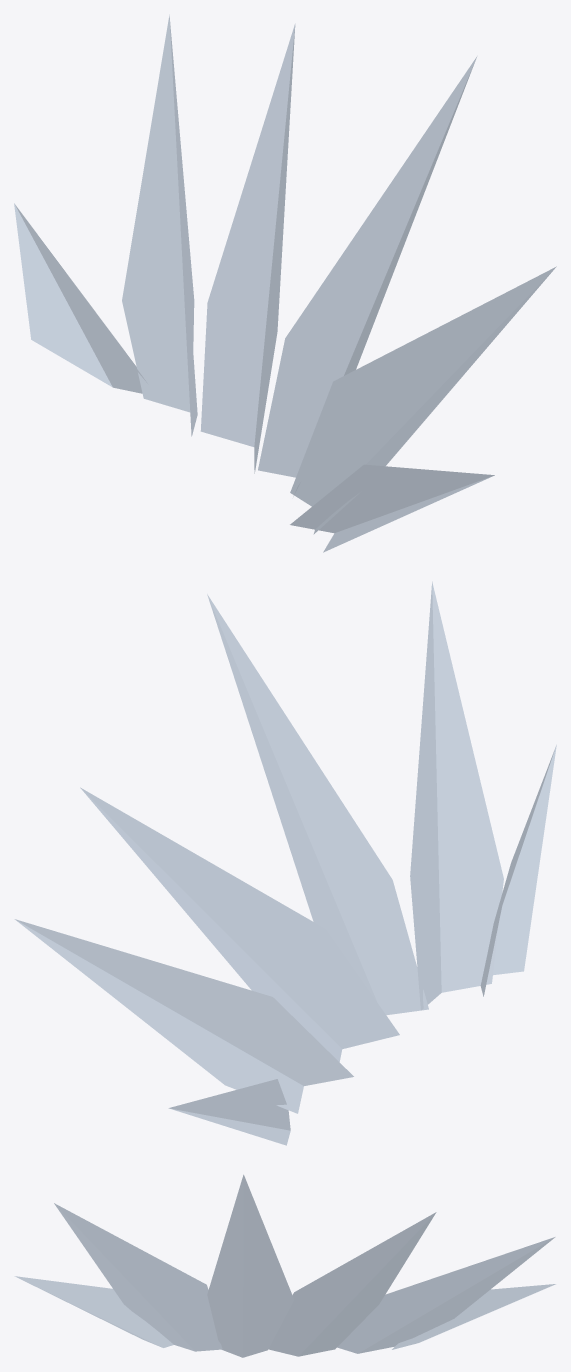
File: Water_Attachment.glb
The picture shows the model from 3 angles, top to bottom: view 1: azimuth 30°, elevation 25°; view 2: azimuth 150°, elevation 25°; view 3: azimuth 270°, elevation 25°; orthographic projection. The views are drawn at different scales.
Visible parts, largest first — view 1: WATER_3, WATER_4, WATER_2, WATER_5, WATER_6, WATER_1; view 2: WATER_2, WATER_3, WATER_4, WATER_5, WATER_1, WATER_6; view 3: WATER_3, WATER_2, WATER_4, WATER_5, WATER_1, WATER_6.
Boxes of the visible parts, x1,y1,x2,y2 form: WATER_3: (258,56,477,496); WATER_4: (200,23,295,473); WATER_2: (290,266,556,534); WATER_5: (122,14,197,436); WATER_6: (14,203,147,393); WATER_1: (290,464,494,552); WATER_2: (410,581,503,1010); WATER_3: (207,594,428,1015); WATER_4: (80,787,399,1061); WATER_5: (14,919,353,1113); WATER_1: (480,744,556,996); WATER_6: (168,1079,290,1145); WATER_3: (207,1174,294,1357); WATER_2: (54,1203,222,1351); WATER_4: (268,1212,436,1356); WATER_5: (337,1237,555,1353); WATER_1: (14,1276,173,1347); WATER_6: (392,1284,555,1349).
Size of the model in its own units: 0.2229 by 0.3078 by 0.6384.
